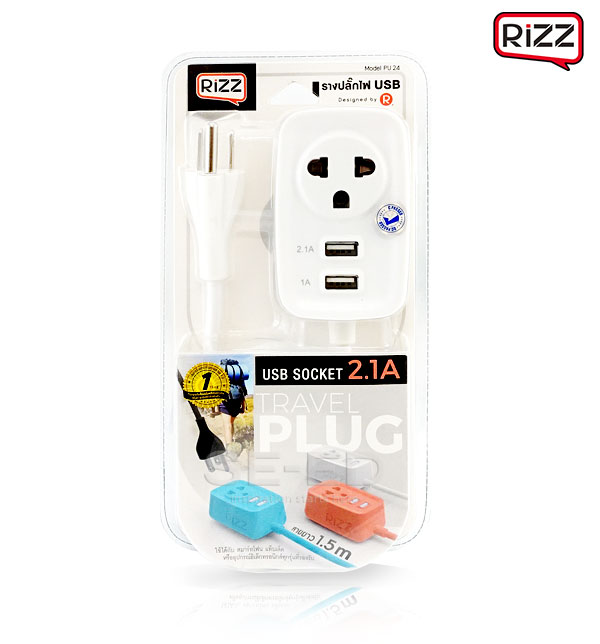Three_eye_plug: (266, 95, 430, 334)
